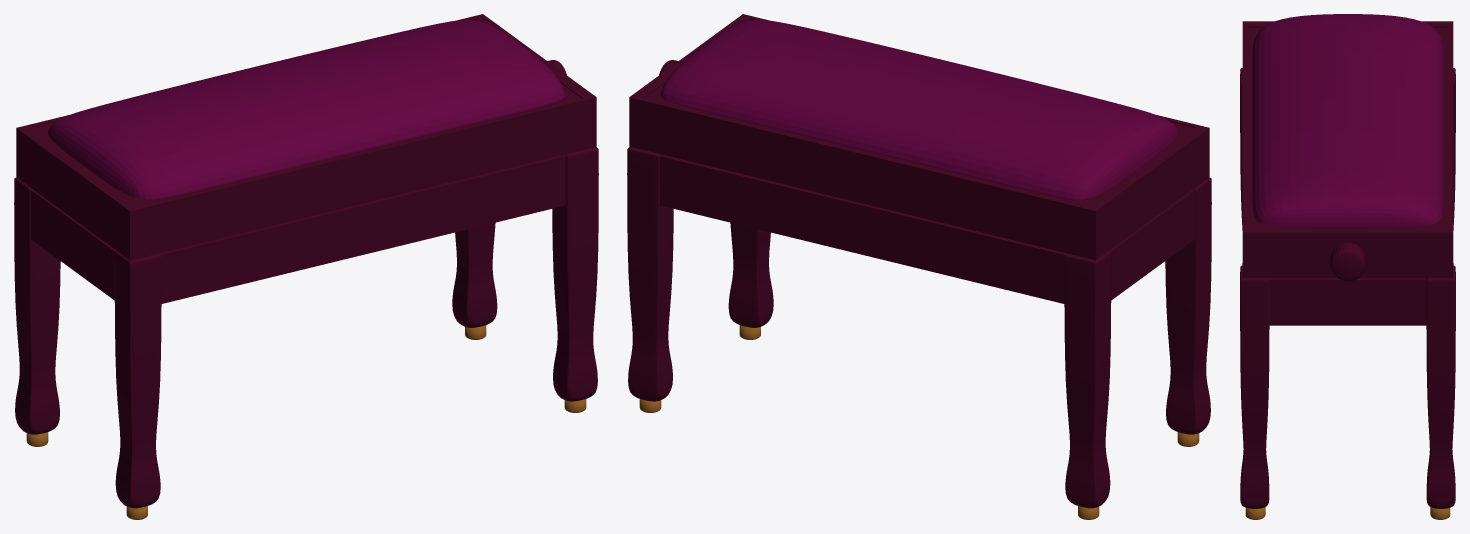
File: BanquetaPiano.fbx
3 renders of one model, left to right at view 1: azimuth 30°, elevation 25°; view 2: azimuth 150°, elevation 25°; view 3: azimuth 270°, elevation 25°, orthographic. The views are drawn at different scales.
Parts seen in each view (by area): view 1: CoixíSeient, Potes, Seient, Base, Potes.001; view 2: CoixíSeient, Potes, Seient, Base, Potes.001; view 3: CoixíSeient, Seient, Potes, Base, RodetaSeient, Potes.001.
Part boxes in pixels (<box>): CoixíSeient: <box>48,19,565,199</box>; Potes: <box>14,146,598,508</box>; Seient: <box>16,14,596,260</box>; Base: <box>30,154,566,303</box>; Potes.001: <box>26,325,586,519</box>; CoixíSeient: <box>660,19,1177,199</box>; Potes: <box>627,146,1211,508</box>; Seient: <box>629,14,1209,260</box>; Base: <box>659,154,1195,303</box>; Potes.001: <box>639,325,1199,519</box>; CoixíSeient: <box>1252,14,1443,227</box>; Seient: <box>1242,21,1453,277</box>; Potes: <box>1240,68,1455,508</box>; Base: <box>1269,278,1426,325</box>; RodetaSeient: <box>1330,242,1365,281</box>; Potes.001: <box>1245,507,1450,519</box>.
Bounding box in the file's own units: 94.54 × 63.75 × 38.89.
